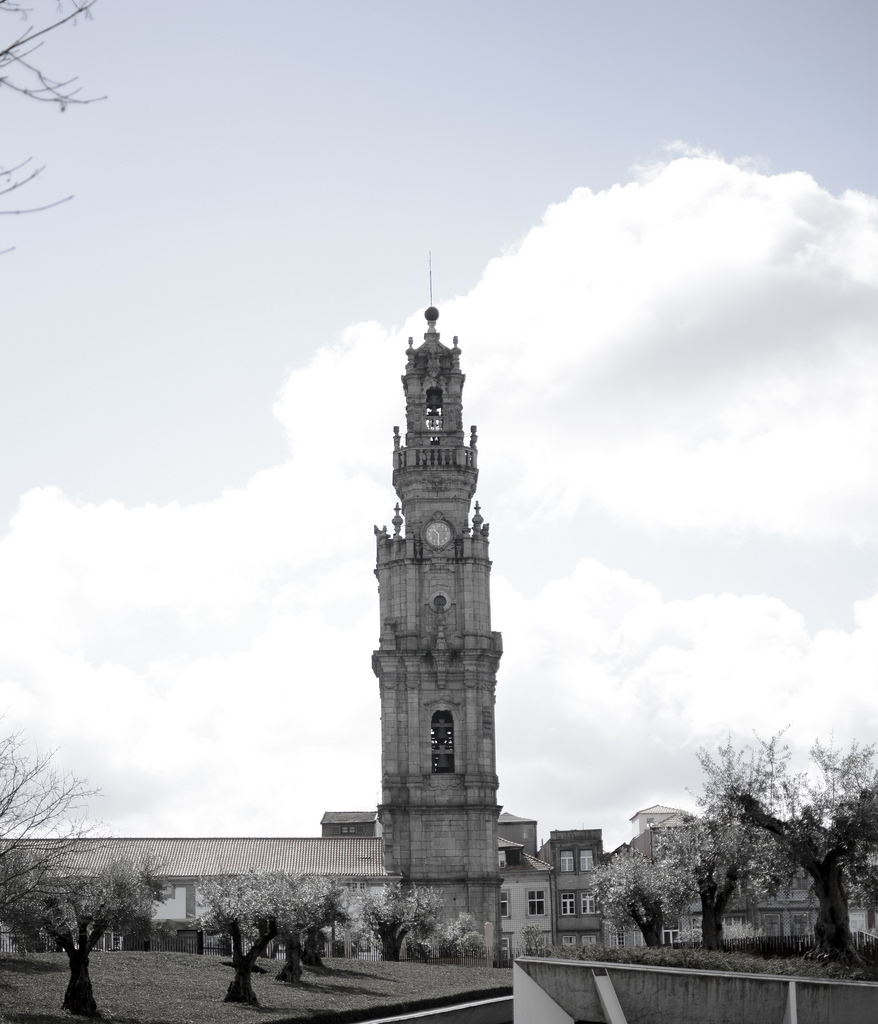clerigos: (371, 250, 506, 963)
